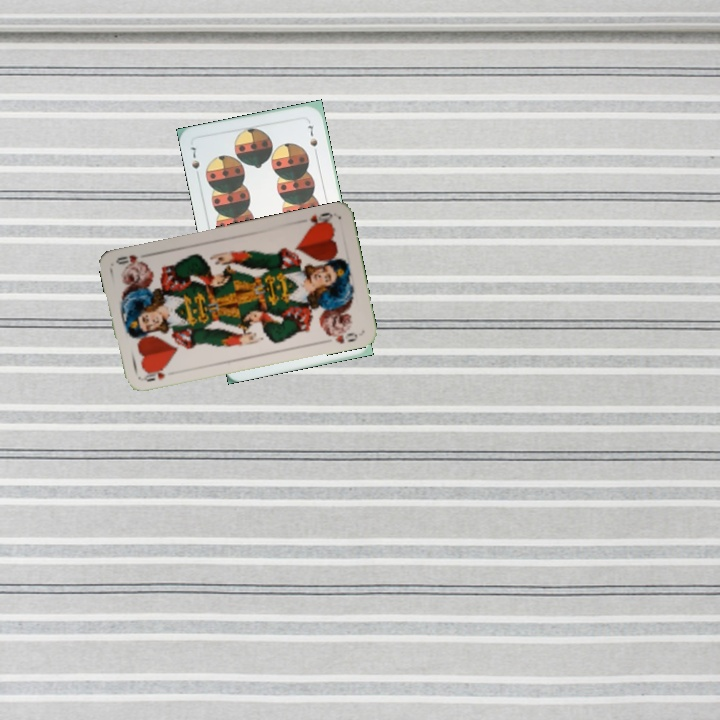HO: (304, 208, 335, 231), (137, 363, 169, 384)
S7: (186, 143, 202, 181)
